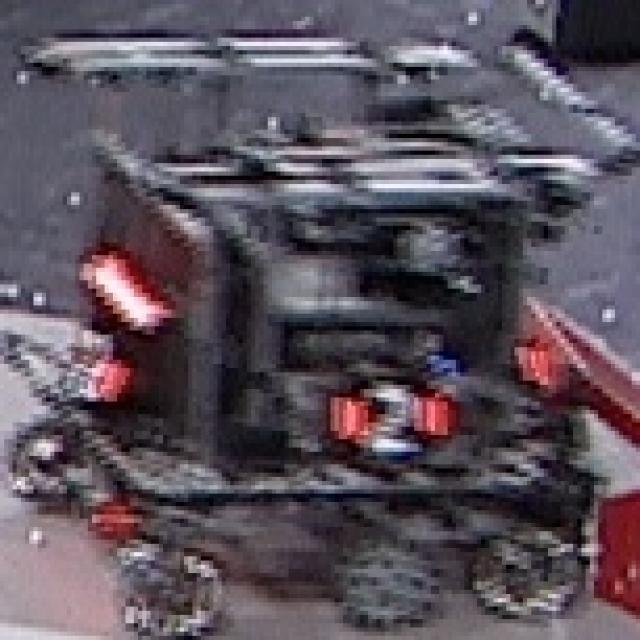R2: (330, 376, 448, 452)
